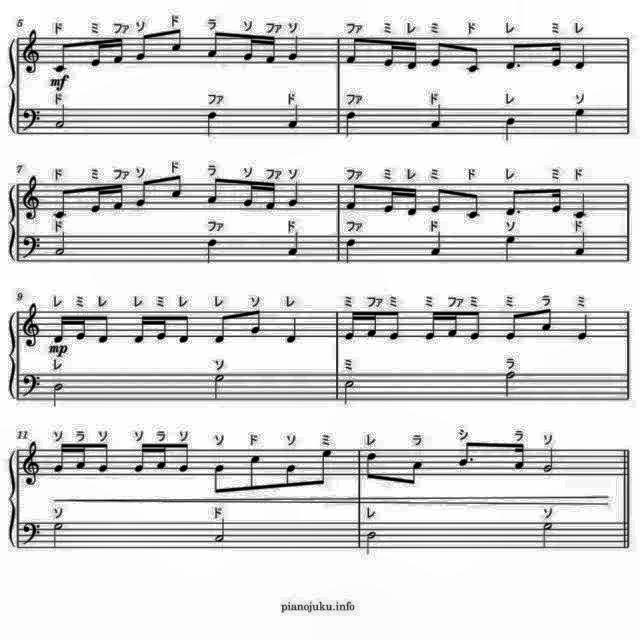Bass-clef: (18, 107, 42, 137), (18, 520, 42, 550), (20, 372, 44, 401), (20, 234, 44, 262)
Eighth-note: (313, 446, 337, 488), (245, 452, 265, 496), (51, 183, 73, 221), (51, 38, 73, 74), (404, 458, 428, 490), (502, 184, 524, 218), (503, 38, 525, 72), (210, 464, 230, 500), (211, 310, 231, 346), (502, 308, 522, 344), (204, 177, 224, 210), (96, 311, 114, 347), (176, 310, 194, 346), (463, 41, 482, 75), (344, 182, 364, 214), (456, 442, 478, 471), (135, 177, 153, 211), (428, 184, 447, 216), (463, 188, 482, 220), (204, 26, 223, 58), (134, 29, 152, 62), (175, 442, 192, 476), (428, 40, 446, 72), (361, 450, 379, 482), (93, 440, 111, 472), (344, 34, 362, 66), (386, 309, 402, 343), (466, 309, 482, 343), (281, 461, 299, 491), (247, 307, 265, 337), (168, 171, 186, 201), (537, 306, 555, 334), (168, 26, 186, 54)
Half-note: (501, 369, 519, 401), (211, 370, 229, 400), (47, 381, 65, 411), (54, 105, 72, 134), (341, 378, 359, 407), (53, 228, 71, 256), (212, 516, 230, 544), (540, 522, 556, 552), (49, 519, 65, 549), (540, 446, 556, 474), (362, 528, 378, 556)
Quarter-note: (574, 310, 594, 342), (282, 316, 302, 348), (570, 190, 590, 222), (570, 230, 590, 260), (426, 230, 446, 258), (503, 233, 521, 264), (342, 109, 360, 138), (342, 237, 360, 266), (572, 40, 588, 72), (427, 103, 445, 131), (284, 230, 302, 258), (285, 102, 303, 130), (203, 109, 220, 138), (286, 179, 302, 209), (570, 105, 586, 135), (286, 33, 302, 63), (203, 238, 220, 266), (502, 116, 518, 144)
Sixteenth-note: (133, 314, 151, 350), (510, 442, 530, 474), (133, 439, 151, 473), (421, 308, 439, 342), (404, 184, 422, 218), (344, 308, 361, 344), (89, 183, 107, 217), (379, 38, 397, 72), (362, 310, 380, 342), (89, 36, 107, 68), (239, 178, 257, 210), (548, 184, 566, 216), (549, 40, 567, 72), (51, 312, 69, 344), (381, 186, 399, 217), (406, 40, 422, 74), (264, 34, 280, 68), (52, 442, 68, 476), (264, 180, 280, 213), (110, 180, 126, 212), (153, 311, 169, 343), (73, 312, 89, 343), (73, 442, 89, 473), (238, 30, 254, 61), (443, 312, 459, 342), (156, 443, 172, 473), (112, 33, 128, 63)
Treble-clef: (20, 27, 46, 77), (20, 172, 46, 220), (20, 439, 44, 489), (18, 304, 42, 352)
